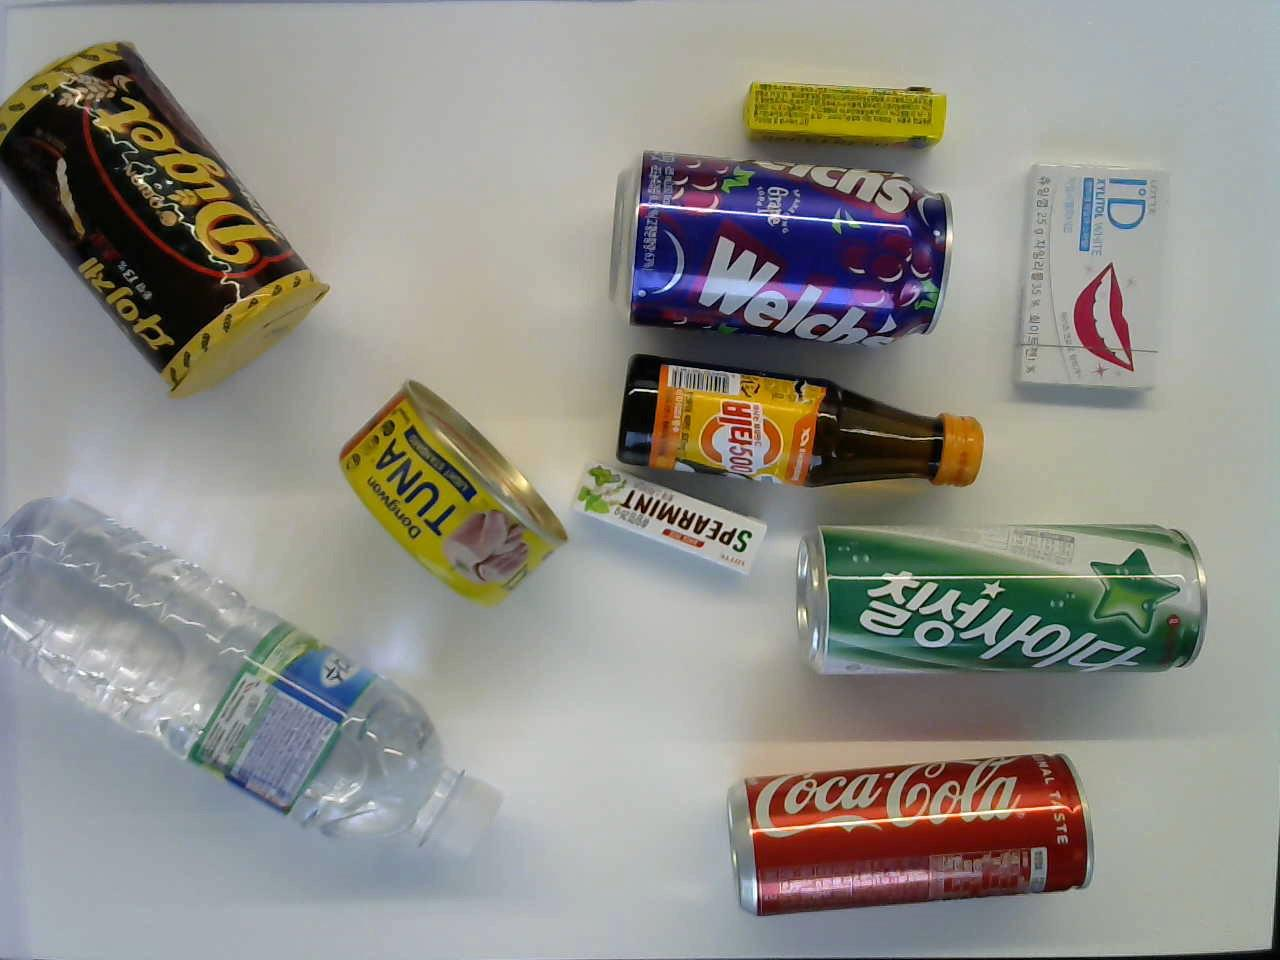ID_gum: (990, 159, 1176, 406)
cidar: (790, 518, 1211, 675)
coke: (719, 749, 1103, 918)
diget_choco: (0, 36, 340, 400)
juicyfresh: (738, 76, 952, 146)
samdasu: (0, 489, 509, 887)
spearmint: (569, 459, 771, 584)
tuna: (334, 385, 567, 612)
vita500: (605, 350, 988, 494)
welchs: (604, 150, 958, 349)
